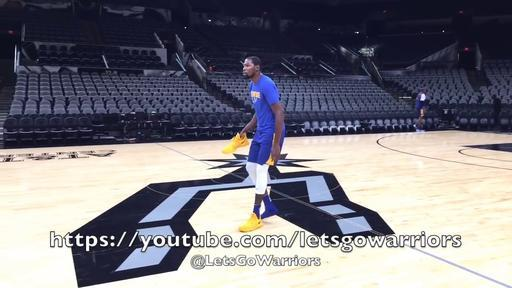human: (222, 55, 286, 233)
